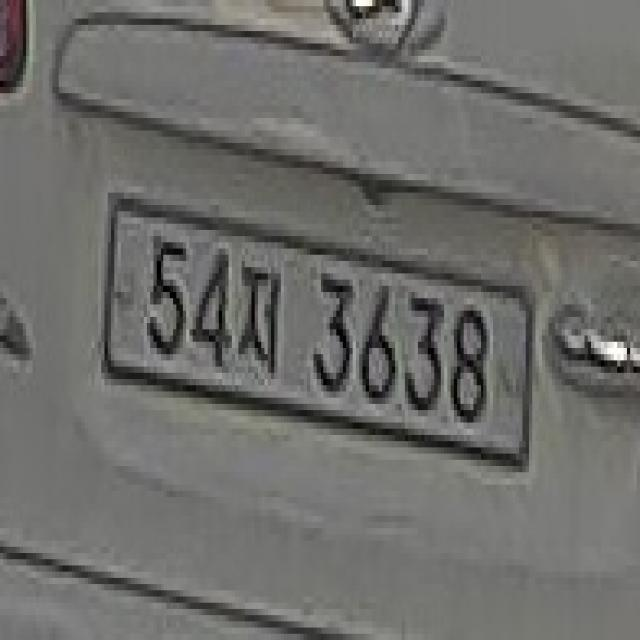3: (398, 261, 444, 435), (310, 267, 356, 423)
4: (189, 224, 235, 379)
5: (144, 198, 186, 366)
6: (359, 248, 395, 428)
8: (451, 286, 496, 447)
jeo: (232, 249, 294, 385)
license_plate: (88, 193, 539, 497)
